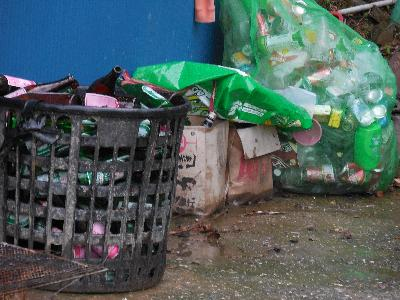bottle: (2, 72, 76, 102), (83, 65, 124, 95)
box: (175, 119, 229, 216)
plastic_bag: (220, 1, 400, 196), (143, 59, 313, 124)
